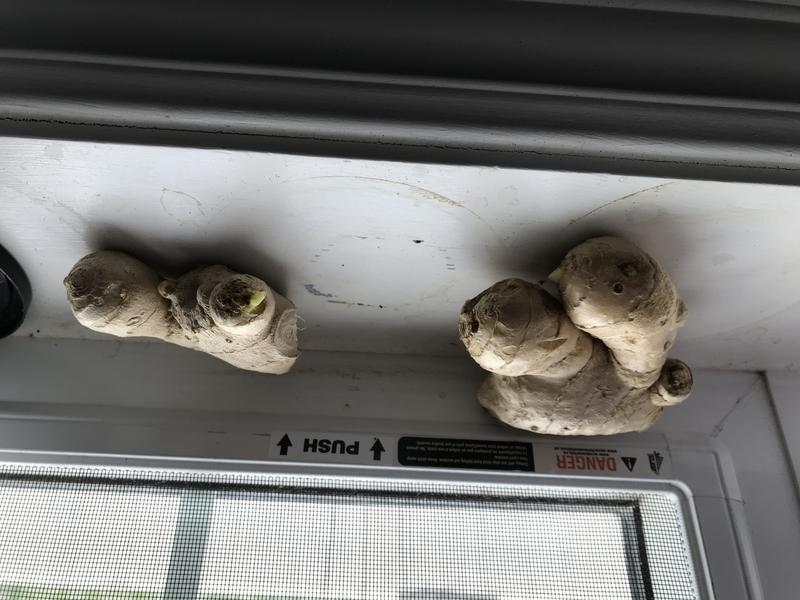ginger: (454, 231, 707, 445), (55, 241, 310, 393)
